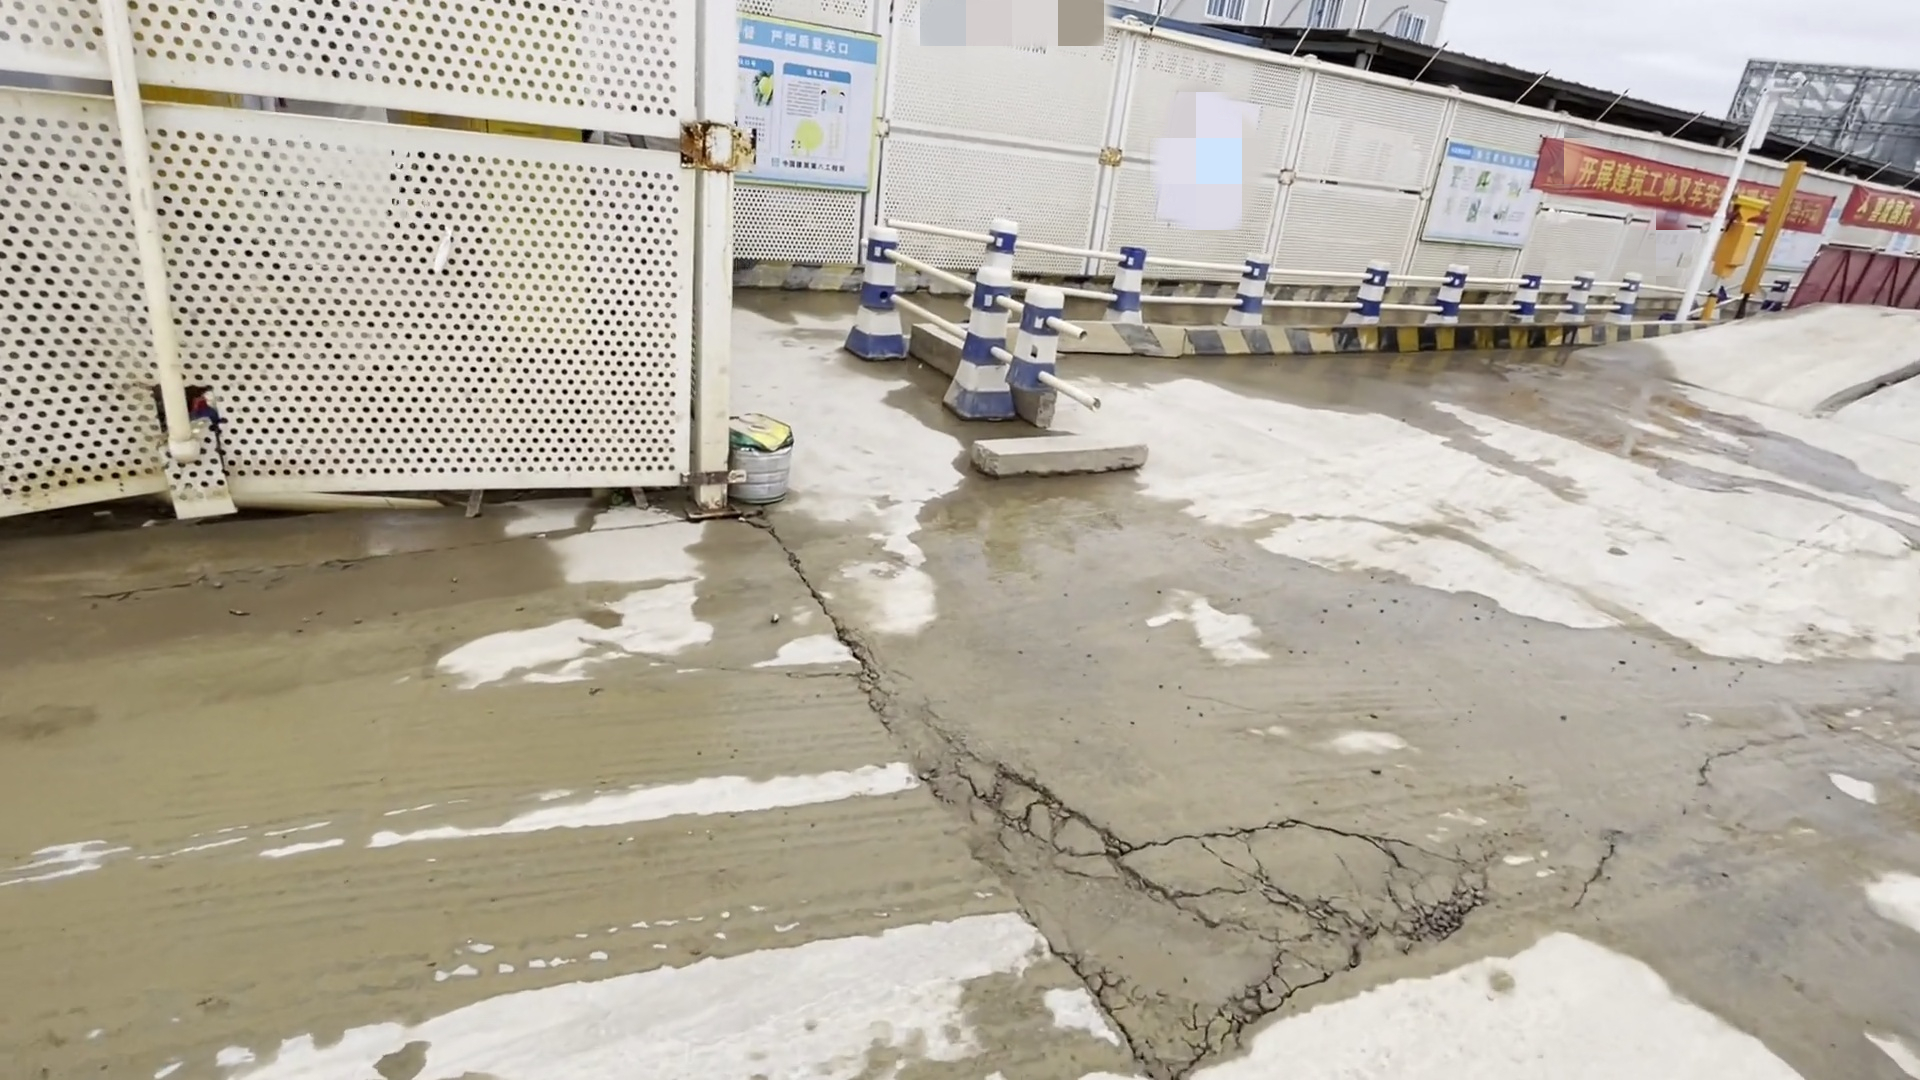slogan: (1530, 125, 1920, 240)
